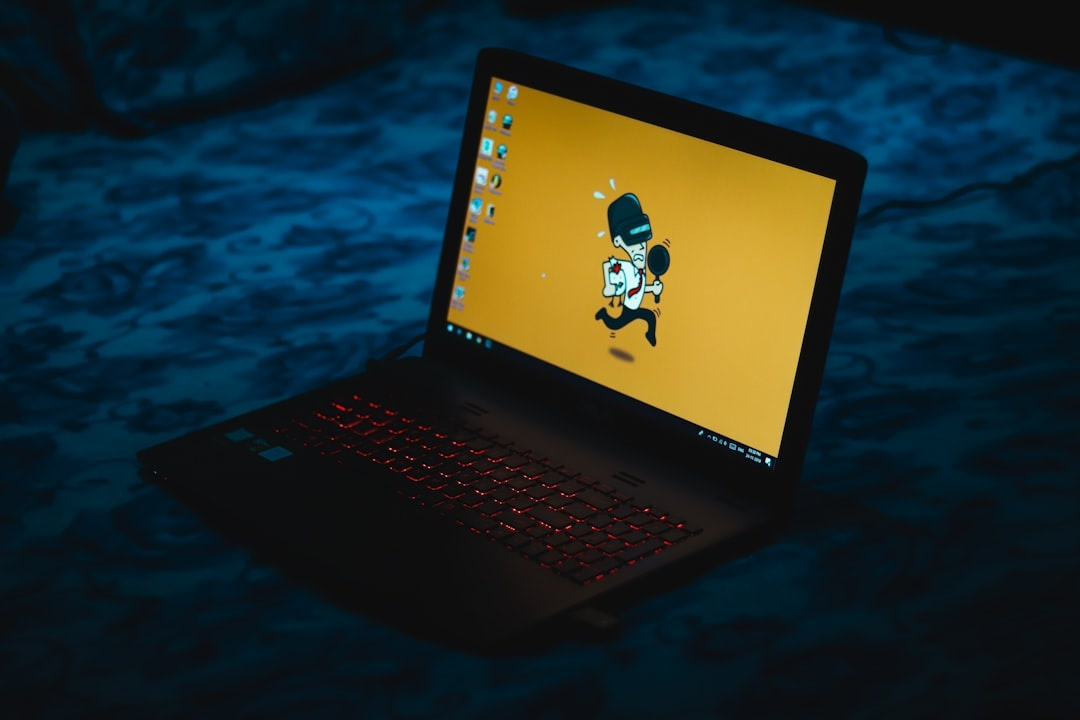laptop: (118, 36, 889, 675)
